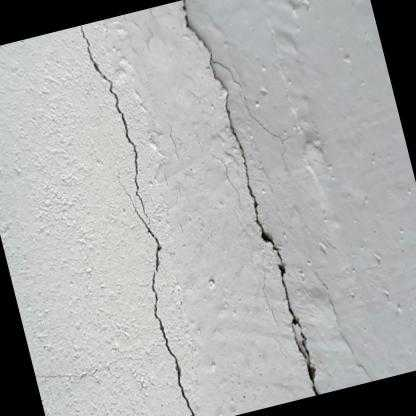crack: (182, 0, 261, 213), (80, 25, 151, 224), (135, 208, 195, 416), (256, 221, 321, 396)
